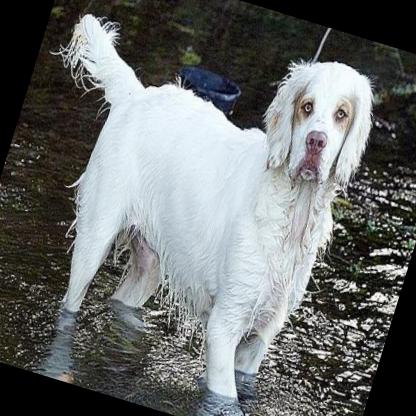clumber: (0, 0, 388, 411)
